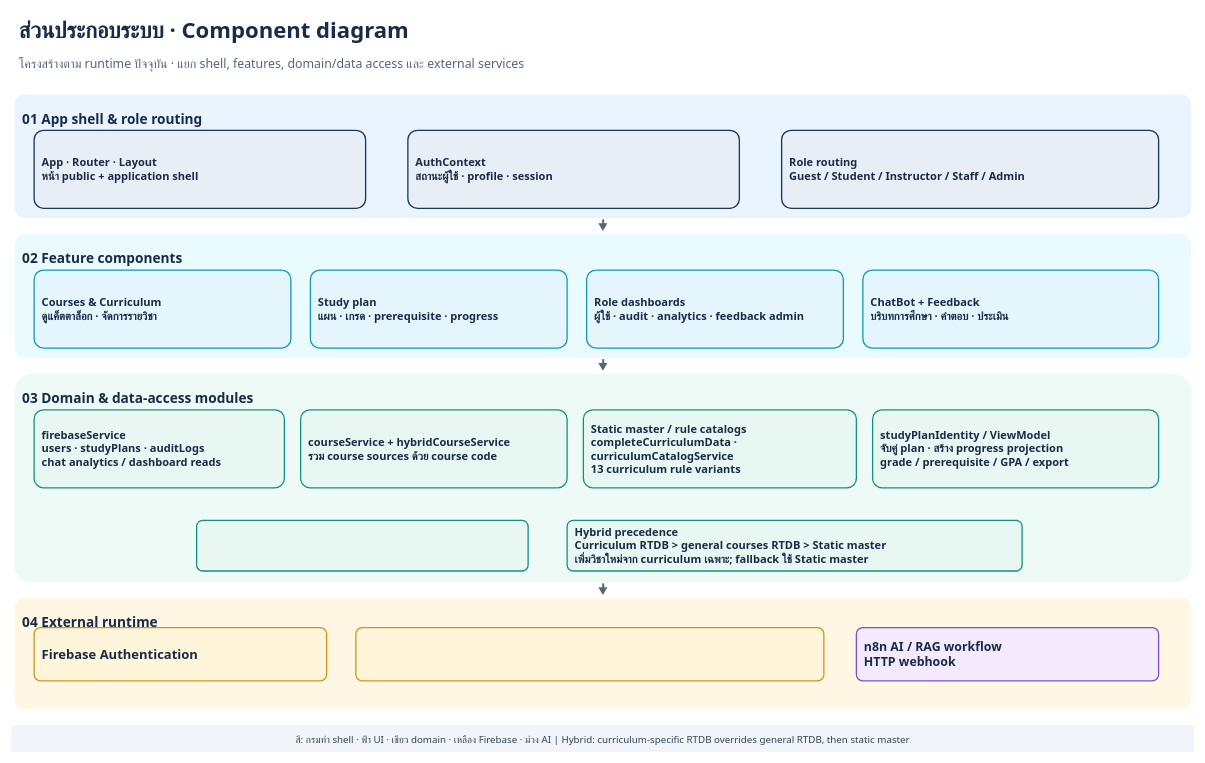
The diagram is 1205 pixels wide and 763 high, and some of its shapes have lost their labels. The shapes that lost their labels are listed below. From the top down, each one's centre as x and y in pixels, then its label:
At [362,545]: "chatLogService อ่าน / จัดการ chatLogs และ chatFeedback".
At [589,654]: "Realtime Database users · courses · curriculum · studyPlans · auditLogs".
